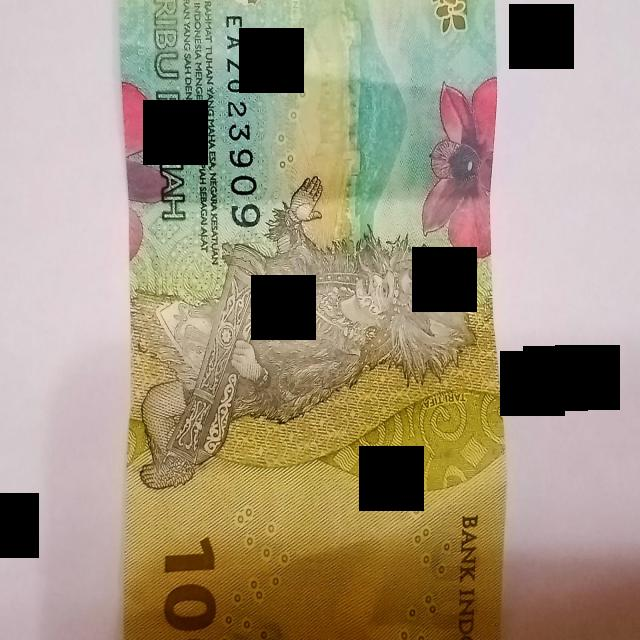seribu rupiah: (120, 0, 505, 638)
